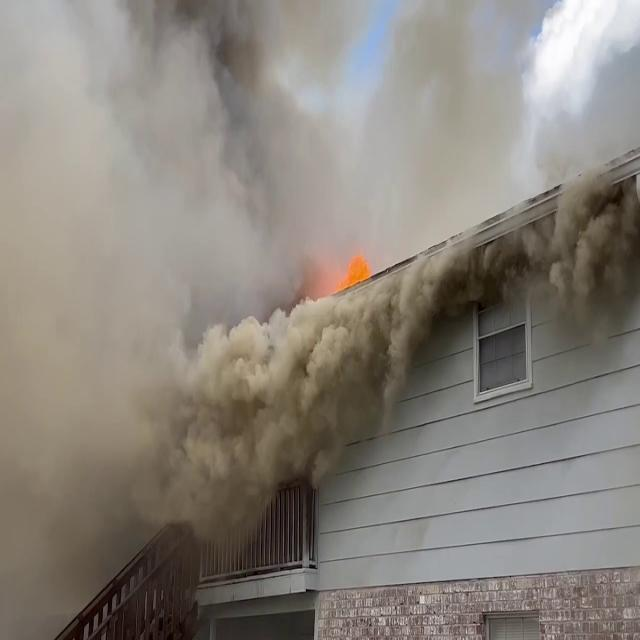Fire: (300, 243, 376, 303)
Smoke: (0, 1, 358, 602), (525, 110, 640, 360)
